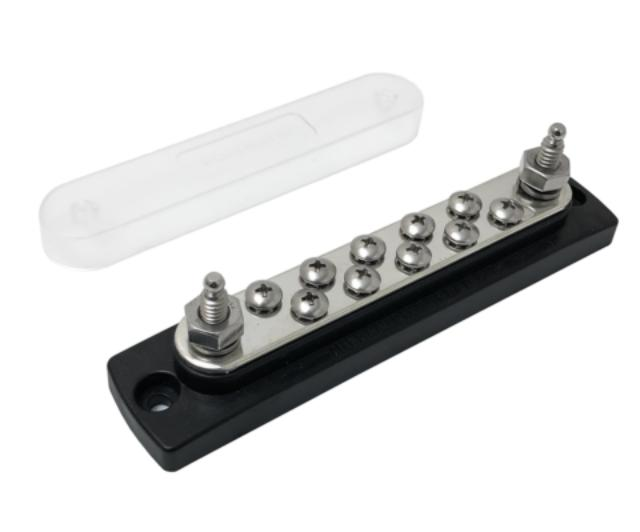busbar: (105, 120, 617, 470)
